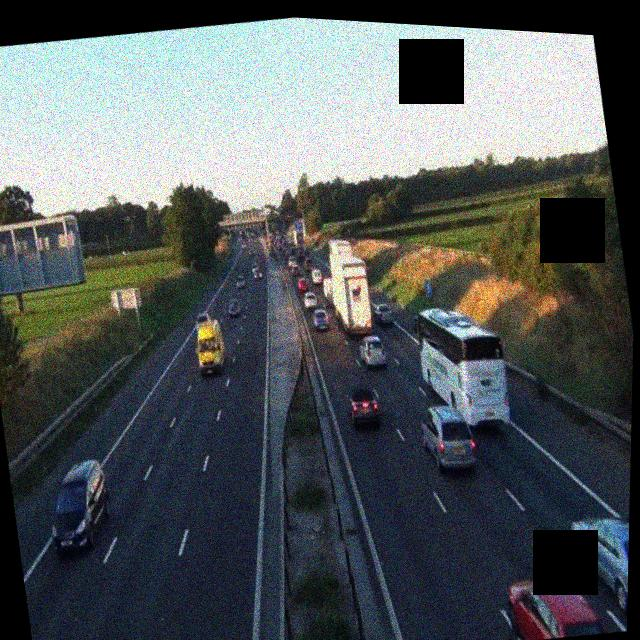bus: (411, 297, 516, 439)
car: (41, 454, 119, 561), (504, 568, 616, 640), (567, 506, 630, 627), (416, 400, 480, 476), (344, 383, 383, 431), (357, 329, 389, 370), (373, 302, 395, 328), (310, 305, 331, 332), (226, 296, 244, 319), (302, 290, 319, 311), (315, 282, 330, 305), (298, 278, 310, 296), (234, 274, 247, 289), (287, 258, 298, 274), (252, 266, 263, 280)
truck: (328, 252, 381, 340), (190, 311, 229, 378), (326, 238, 357, 285), (291, 223, 311, 258)
